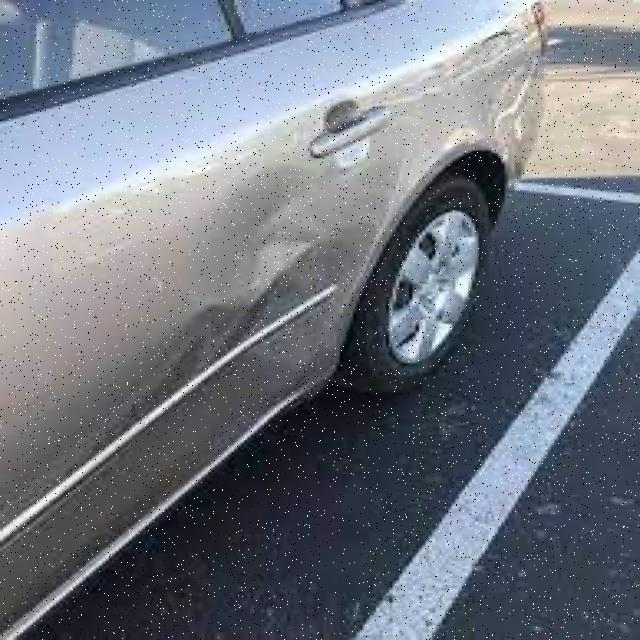car damage: (3, 59, 376, 492)
